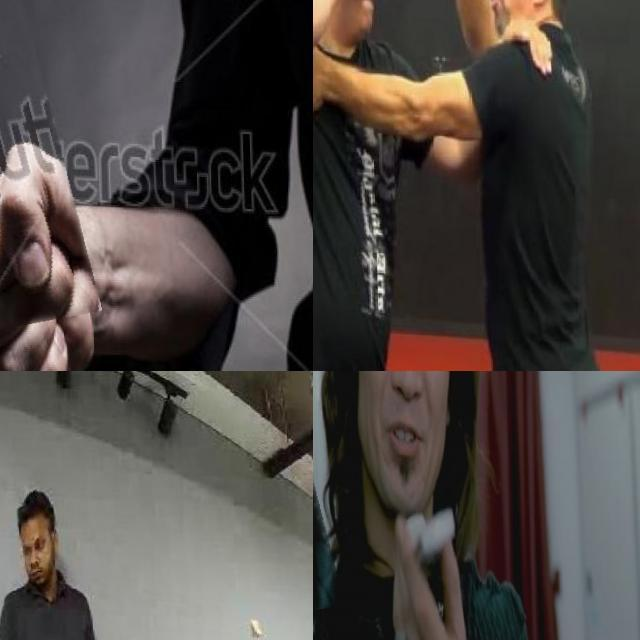-: (0, 0, 147, 348), (337, 0, 441, 44)
gun-knife-thesis - v11 Yolov5 augmented: (313, 371, 372, 615)
